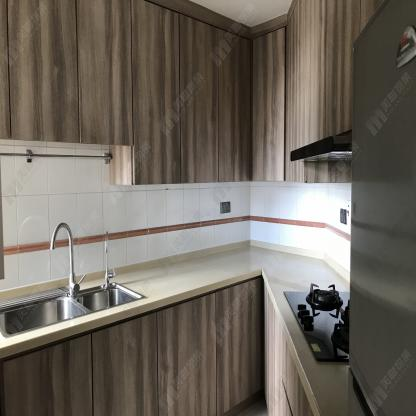Cupboard: (0, 276, 315, 416)
Exhaust Hood: (290, 128, 353, 162)
Faucet: (47, 220, 85, 294), (99, 227, 120, 291)
Fridge: (346, 0, 416, 416)
Sink: (0, 283, 146, 339)
Stove: (283, 283, 349, 363)
